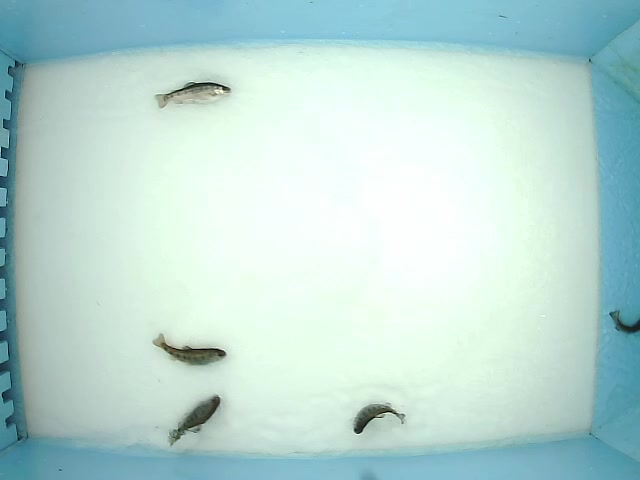fish: (166, 392, 222, 450), (151, 332, 227, 367), (153, 80, 233, 110), (350, 401, 407, 435)
